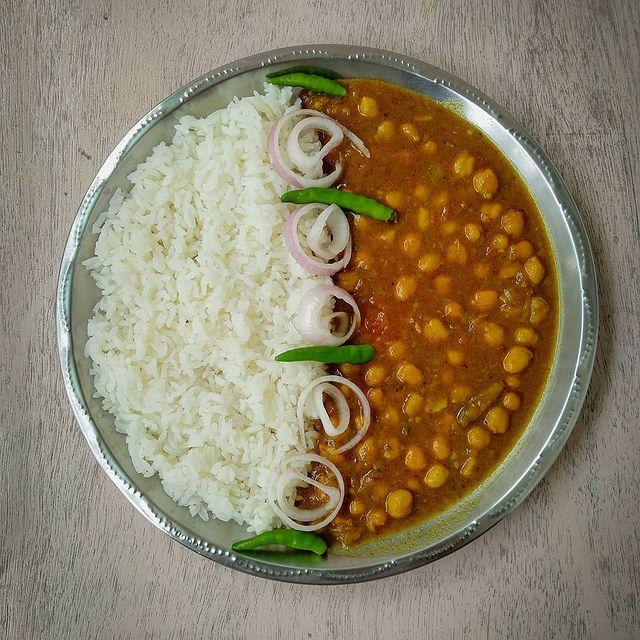Chole: (350, 145, 554, 518)
